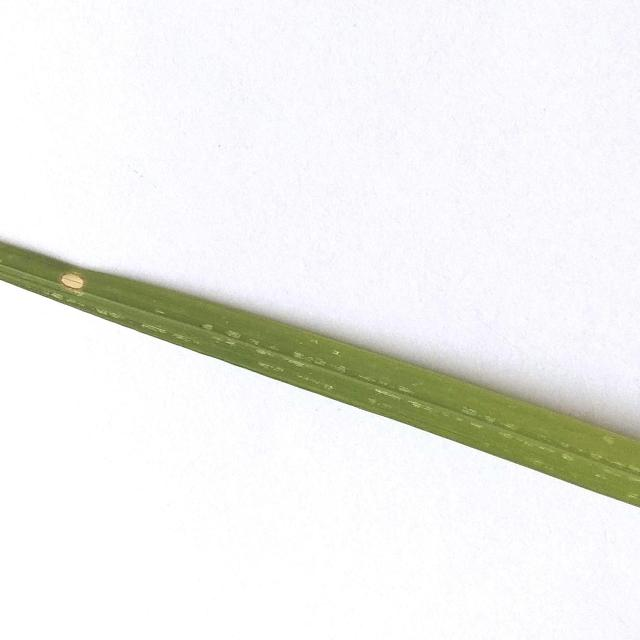Leaf_Blast: (48, 262, 91, 292)
